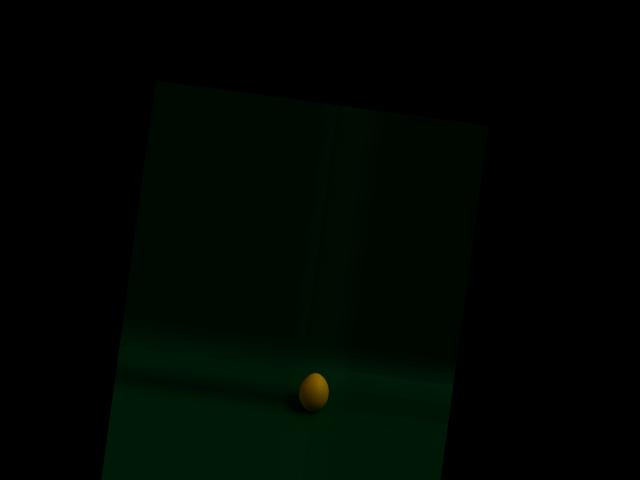egg: (297, 370, 332, 413)
